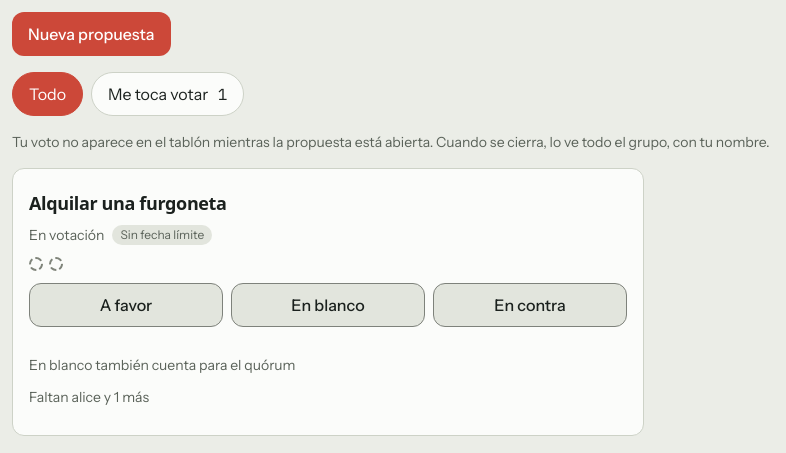
Test: BoardPage, el momento de votar › confirma en voz y en pantalla lo que se acaba de votar
Click the button "A favor" at (126, 305), box left=29, top=283, right=223, bottom=327
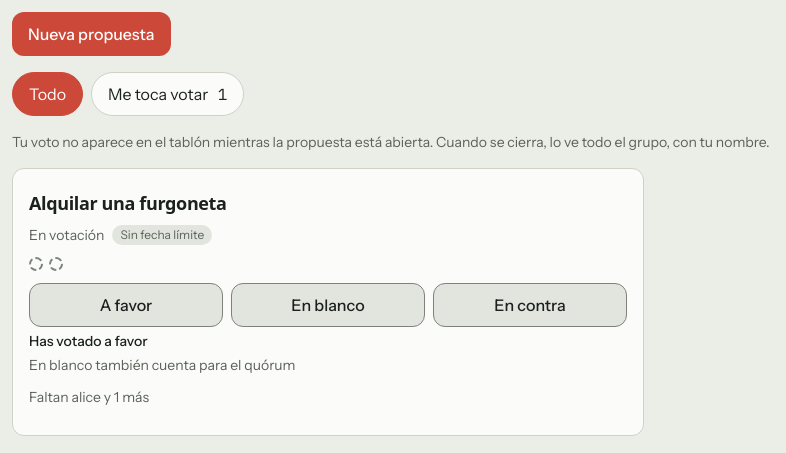
Expected: the message reads "Has votado a favor", left=29, top=332, right=148, bottom=350
